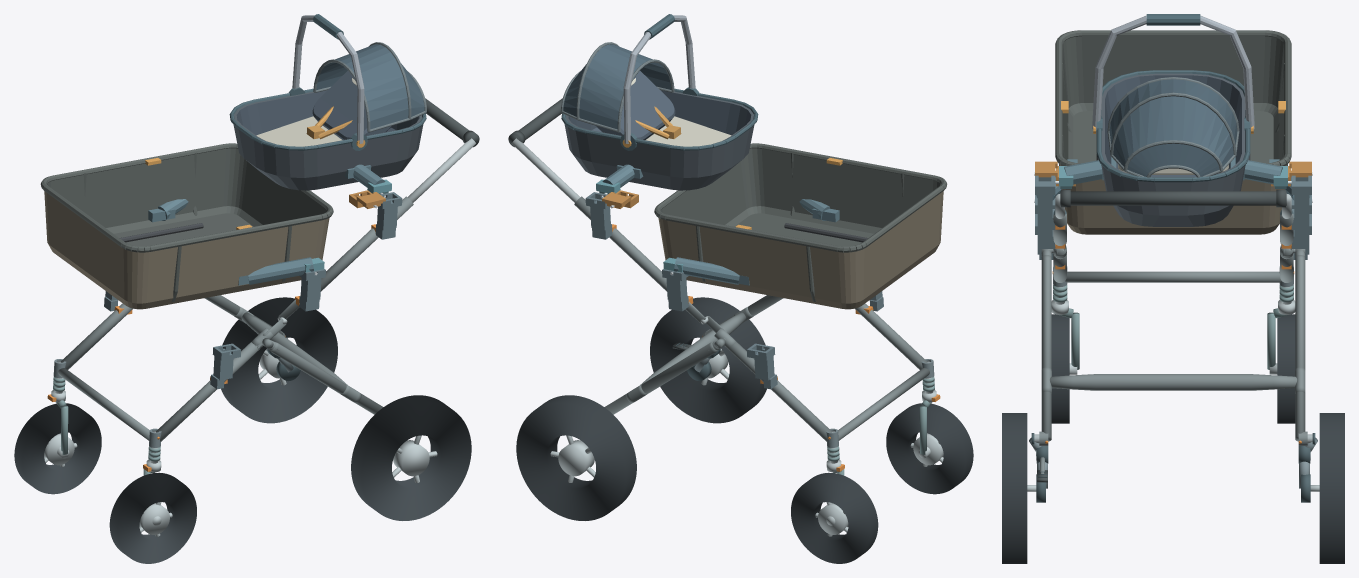
The model's file is D19_w650_state1_wheel_L.glb.
The picture shows the model from 3 angles, left to right: view 1: azimuth 30°, elevation 25°; view 2: azimuth 150°, elevation 25°; view 3: azimuth 270°, elevation 25°; orthographic projection. The views are drawn at different scales.
Visible parts, largest first — view 1: D19_Lower, D19_Upper, RL_tire.008, RR_tire.008, FL_tire.008, FR_tire.008, D19_Lower_Mount_M, V46_rear_leg_-1.009, main_lower_-1.009, front_fixed_round_tube.008, main_upper_-1.009, main_lower_1.009 (+9 smaller); view 2: D19_Lower, D19_Upper, RR_tire.008, RL_tire.008, FR_tire.008, FL_tire.008, D19_Lower_Mount_M, V46_rear_leg_1.009, main_lower_1.009, front_fixed_round_tube.008, main_upper_1.009, main_lower_-1.009 (+9 smaller); view 3: D19_Upper, D19_Lower, V46_rearbar.009, RL_tire.008, RR_tire.008, round_handle.008, front_fixed_round_tube.008, D19_Upper_Mount_H, FL_tire.008, FR_tire.008, V46_rear_leg_1.009, V46_rear_leg_-1.009 (+6 smaller).
Part boxes in pixels (x1,y1,x2,y2): D19_Lower: (40,143,333,309); D19_Upper: (229,14,426,190); RL_tire.008: (351,395,471,520); RR_tire.008: (221,297,337,423); FL_tire.008: (109,472,196,563); FR_tire.008: (14,403,101,494); D19_Lower_Mount_M: (148,199,324,285); V46_rear_leg_-1.009: (270,342,383,414); main_lower_-1.009: (156,342,262,441); front_fixed_round_tube.008: (58,368,149,440); main_upper_-1.009: (320,196,413,291); main_lower_1.009: (61,303,132,369); D19_Lower: (654,143,947,309); D19_Upper: (561,14,758,190); RR_tire.008: (516,395,636,520); RL_tire.008: (650,297,766,423); FR_tire.008: (791,472,878,563); FL_tire.008: (886,403,973,494); D19_Lower_Mount_M: (663,199,839,285); V46_rear_leg_1.009: (604,342,717,414); main_lower_1.009: (725,342,831,441); front_fixed_round_tube.008: (838,368,929,440); main_upper_1.009: (574,196,667,291); main_lower_-1.009: (855,303,926,369); D19_Upper: (1092,14,1254,226); D19_Lower: (1055,30,1291,234); V46_rearbar.009: (1050,374,1296,390); RL_tire.008: (1002,413,1027,563); RR_tire.008: (1319,413,1344,563); round_handle.008: (1060,191,1286,205); front_fixed_round_tube.008: (1065,271,1281,282); D19_Upper_Mount_H: (1055,157,1291,188); FL_tire.008: (1051,314,1069,423); FR_tire.008: (1277,314,1295,423); V46_rear_leg_1.009: (1295,255,1305,441); V46_rear_leg_-1.009: (1041,255,1051,441).
Bounding box in the file's own units: 1.2 × 1.4 × 0.8171.
